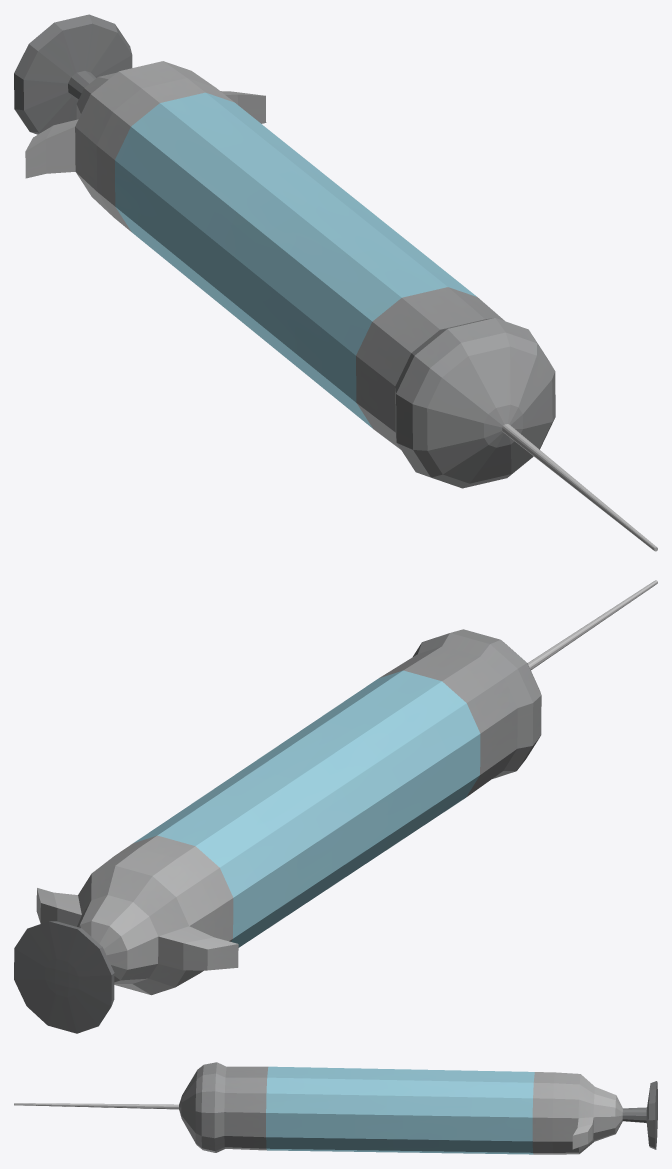
File: syringe.glb
The picture shows the model from 3 angles, top to bottom: view 1: azimuth 30°, elevation 25°; view 2: azimuth 150°, elevation 25°; view 3: azimuth 270°, elevation 25°; orthographic projection. The views are drawn at different scales.
Visible parts, largest first — view 1: syringe; view 2: syringe; view 3: syringe.
Boxes of the visible parts, box(x1,y1,x2,y2) form: syringe: box(14, 14, 657, 551); syringe: box(14, 580, 657, 1033); syringe: box(14, 1062, 657, 1154).
Size of the model in its own units: 0.0419 by 0.0265 by 0.1946.
Materials: 1 (1 with a texture image).
